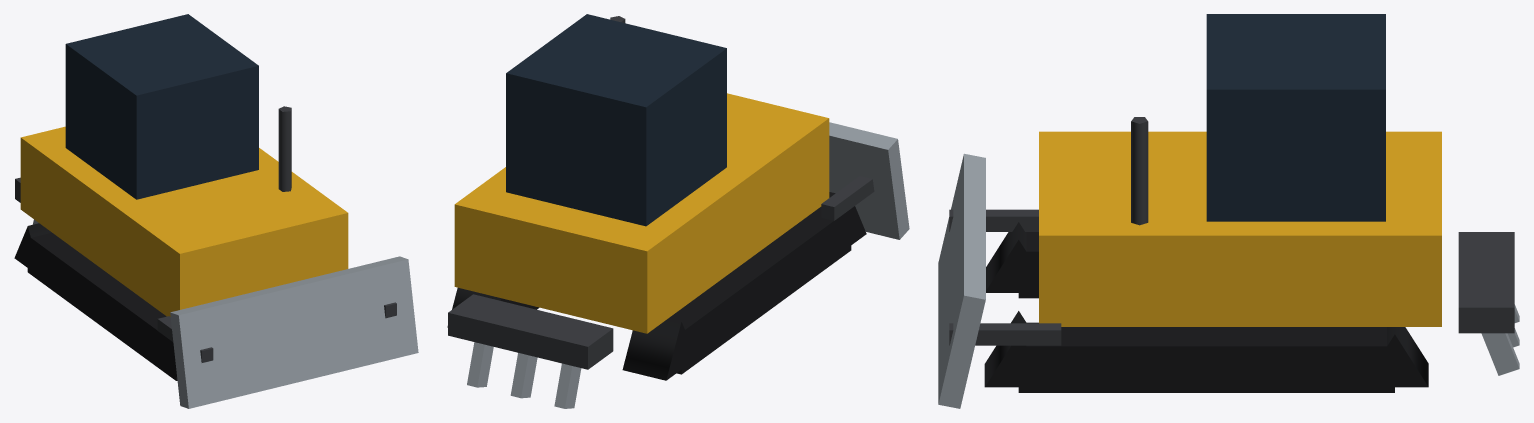
The model's file is veh_ground_bulldozer_a07_lod2.glb.
The picture shows the model from 3 angles, left to right: view 1: azimuth 30°, elevation 25°; view 2: azimuth 150°, elevation 25°; view 3: azimuth 270°, elevation 25°; orthographic projection. The views are drawn at different scales.
Visible parts, largest first — view 1: body, blade, track_r; view 2: body, track_r, ripper, blade, track_l; view 3: body, track_l, blade, ripper, track_r.
Boxes of the visible parts, x1,y1,x2,y2 form: body: (20,14,348,316); blade: (157,256,418,408); track_r: (14,223,177,380); body: (454,14,829,333); track_r: (622,192,866,380); ripper: (448,294,613,408); blade: (821,122,909,239); track_l: (447,287,539,327); body: (1039,14,1441,326); track_l: (984,311,1428,392); blade: (938,153,1061,408); ripper: (1458,232,1519,375); track_r: (986,222,1038,298).
Size of the model in its own units: 3 by 2.93 by 5.19.
